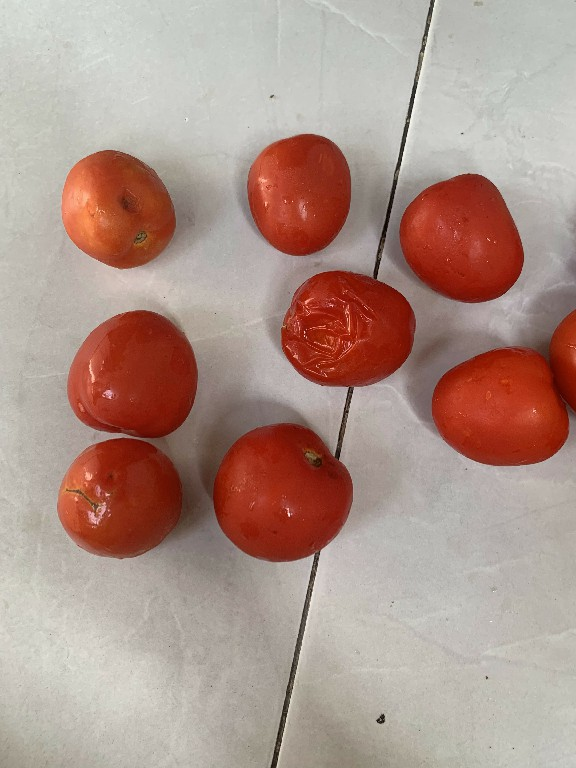NG: (52, 146, 186, 287), (276, 262, 420, 393), (57, 434, 179, 567)
OK: (205, 422, 365, 571), (392, 169, 537, 307), (427, 343, 574, 471), (61, 303, 200, 435), (241, 122, 355, 260)
